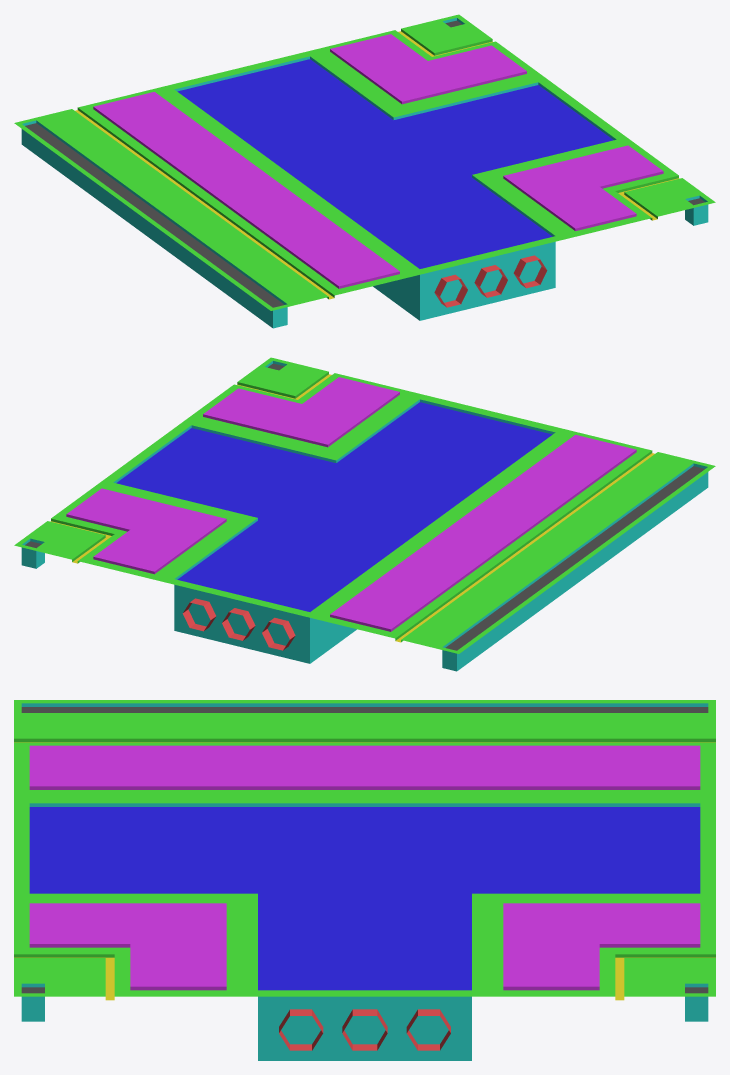
The model's file is Floor_12_T.fbx.
The picture shows the model from 3 angles, top to bottom: view 1: azimuth 30°, elevation 25°; view 2: azimuth 150°, elevation 25°; view 3: azimuth 270°, elevation 25°; orthographic projection. The views are drawn at different scales.
Parts seen in each view (by area): view 1: Floor_12_T; view 2: Floor_12_T; view 3: Floor_12_T.
Part boxes in pixels (left/top/right/bottom): Floor_12_T: left=14, top=14, right=715, bottom=328; Floor_12_T: left=14, top=357, right=715, bottom=671; Floor_12_T: left=14, top=700, right=715, bottom=1060.
Size of the model in its own units: 229 by 26.67 by 229.
